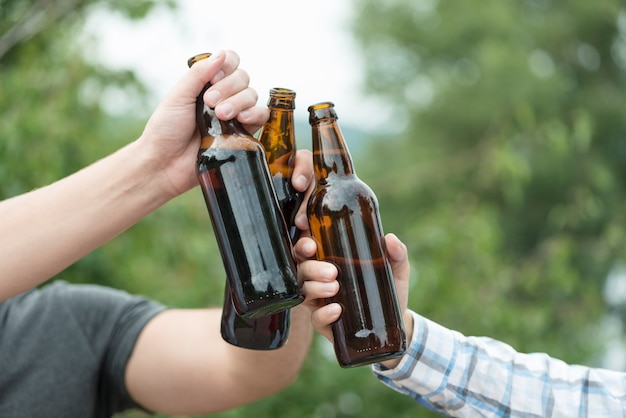alcohol: (186, 51, 307, 317), (307, 102, 408, 370), (218, 87, 298, 350)
